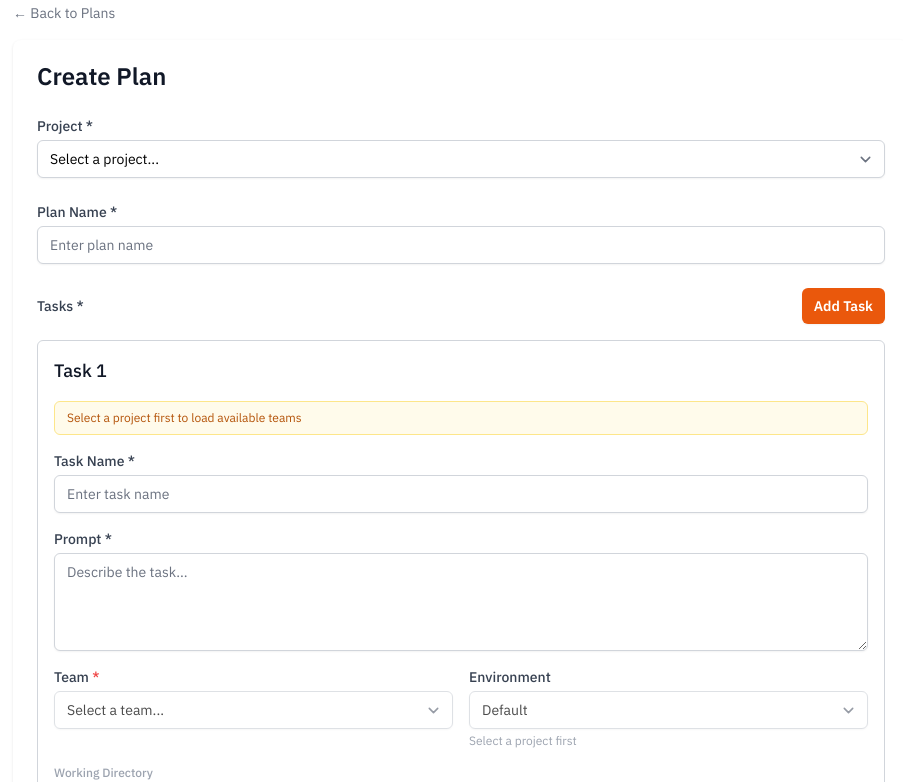
Test: CreatePlanForm › allows removing tasks when more than one exists
Add a second task
Step 1. Click the button "Add Task" → (843, 306), box [802,288,885,324]
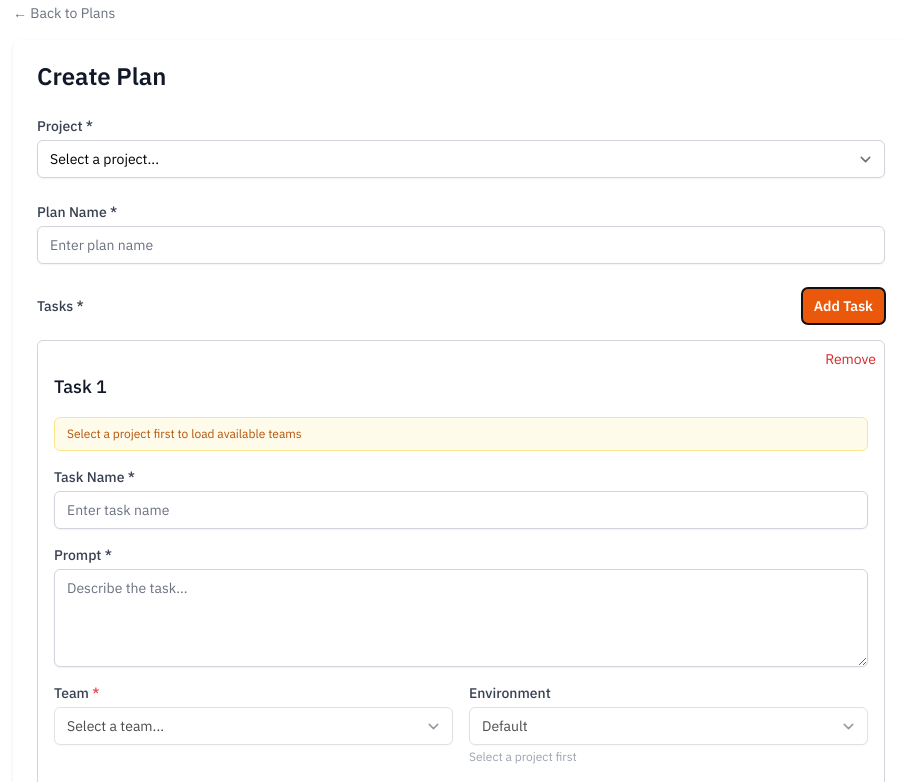
Now the number of buttons "Remove" is 2
Remove first task
Step 2. Click the button "Remove" → (851, 359), box [825,349,876,369]
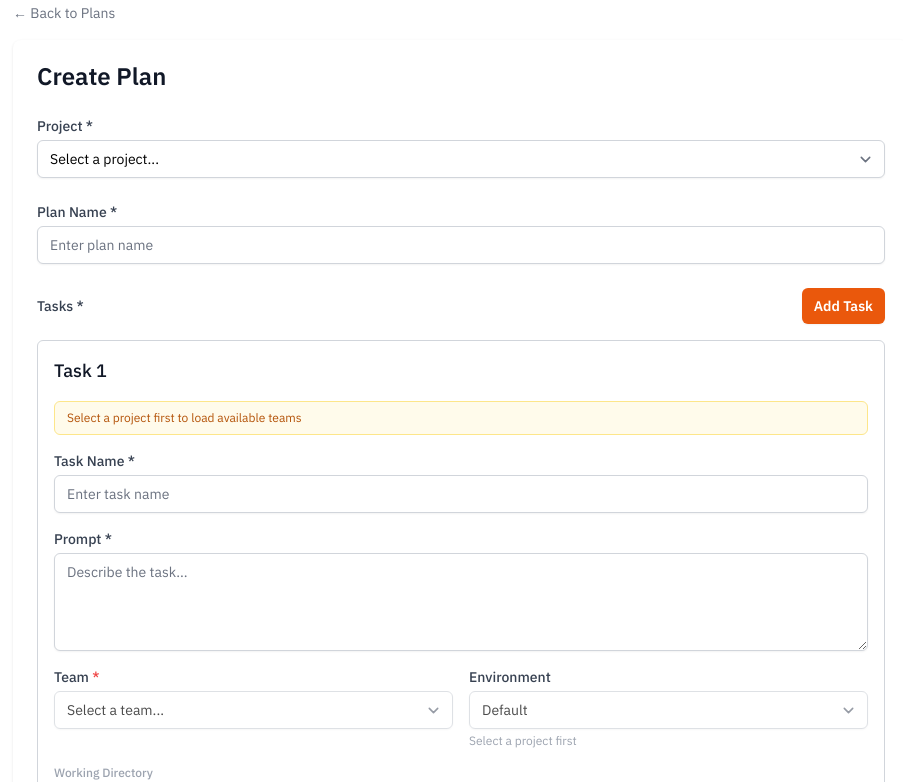
Now the number of headings "Task 1" is 1, box [54,359,107,382]
